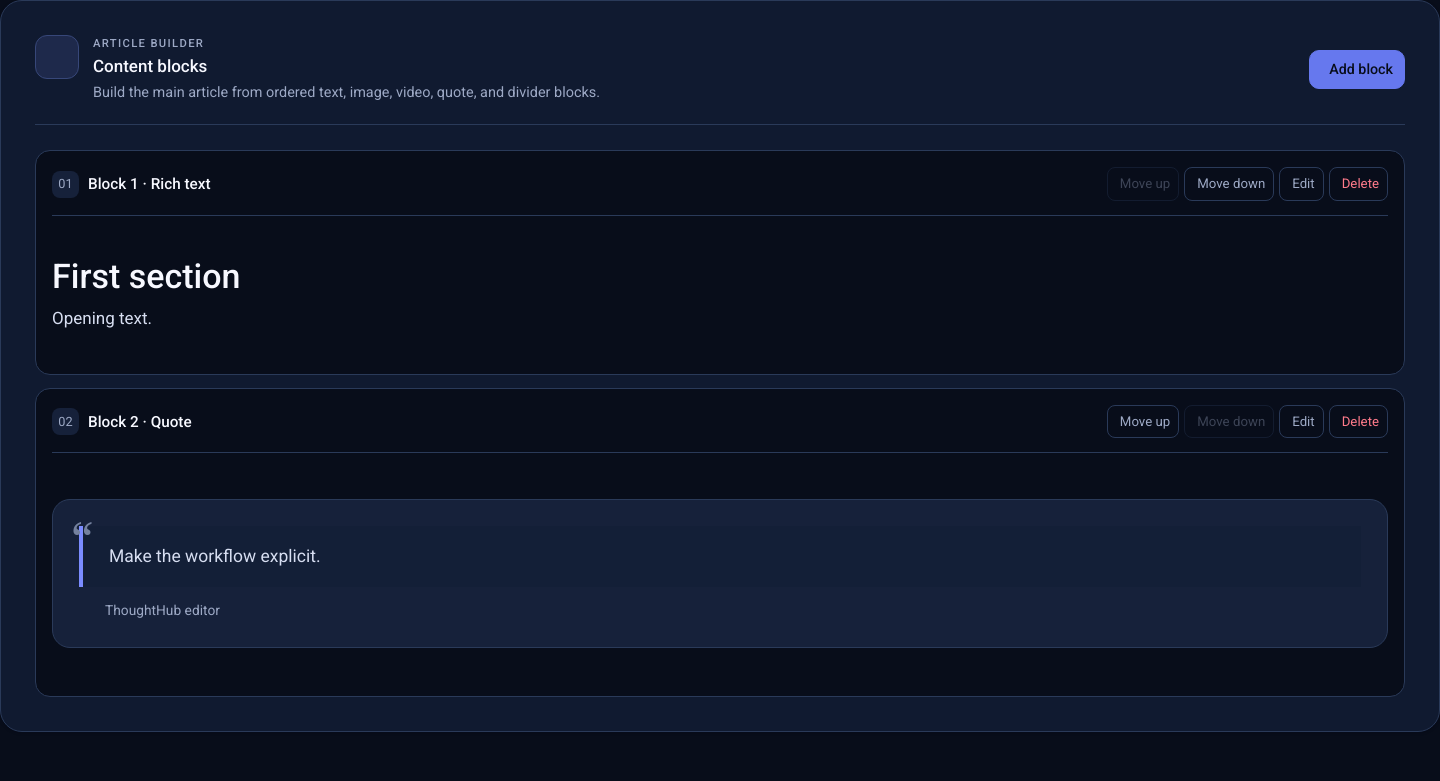
Test: PostBlocksEditor › edits an existing quote block
expect the text "Make the workflow explicit." is shown: met, box [109, 546, 320, 566]
Click the button with aria-label "Edit block 2" at (1301, 422), box [1279, 405, 1324, 438]
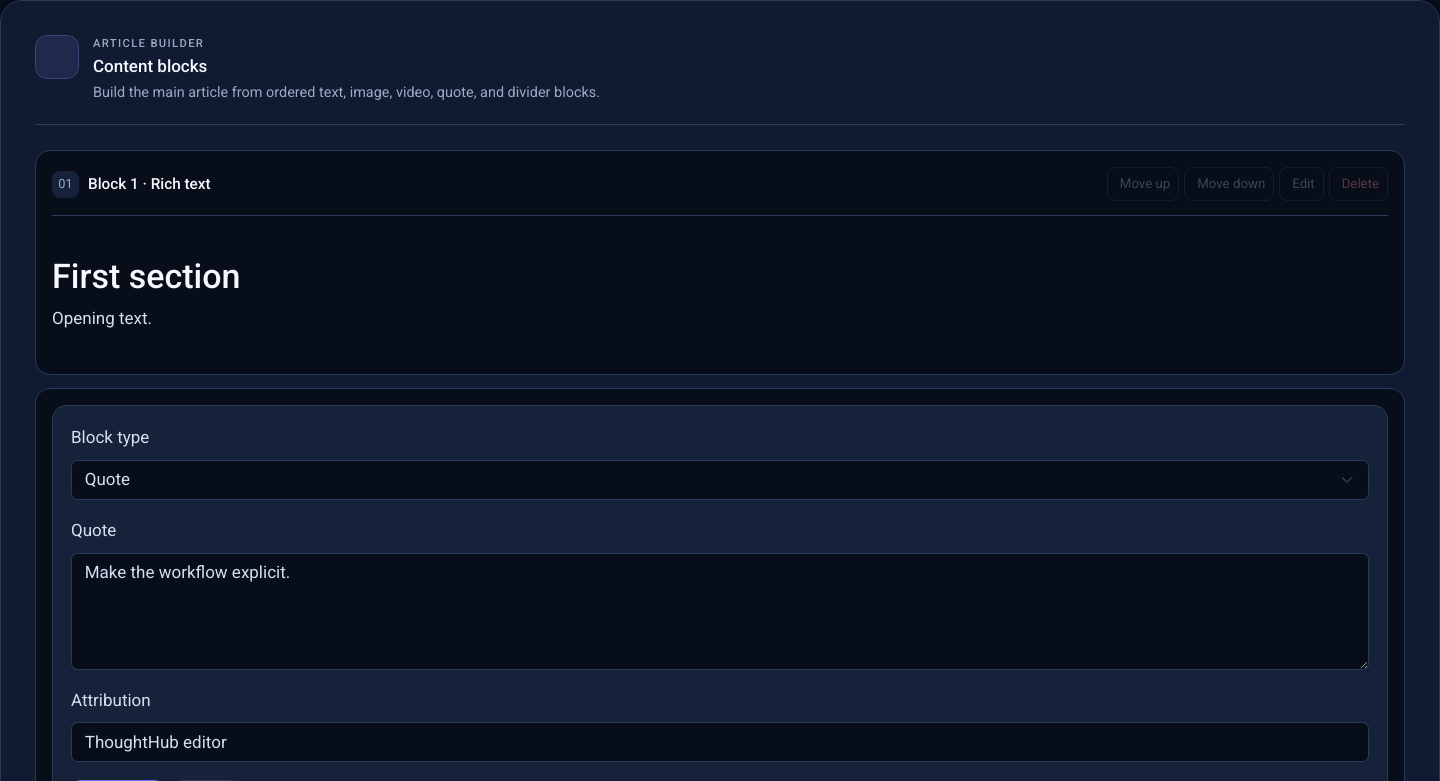
Replace the text in the text box labelled "Quote" with "Make each state explicit." at (720, 611), box [71, 553, 1369, 670]
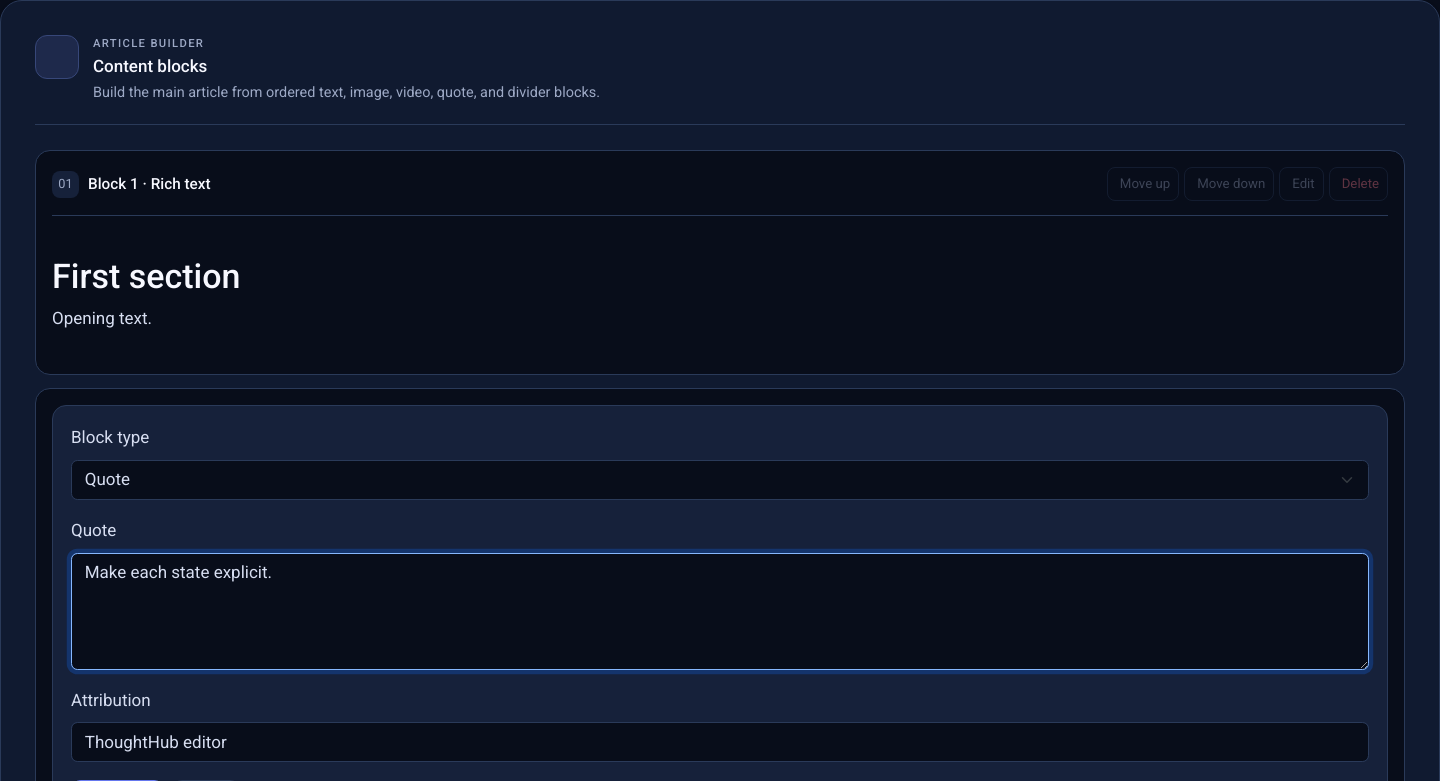
Replace the text in the field labelled "Attribution" with "Editorial team" at (720, 742), box [71, 722, 1369, 762]
(page scrolled)
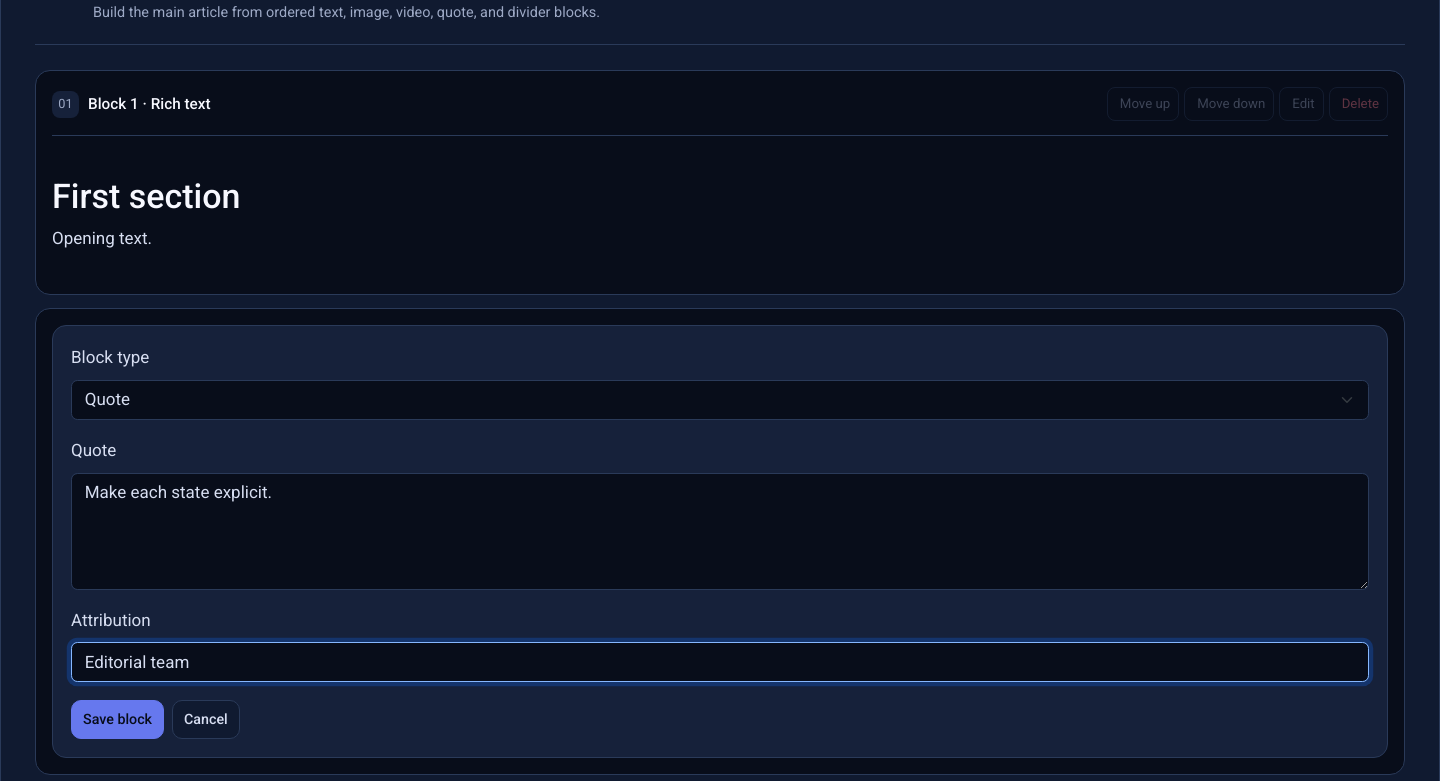
Click the button "Save block" at (118, 720), box [71, 700, 164, 739]
(page scrolled)
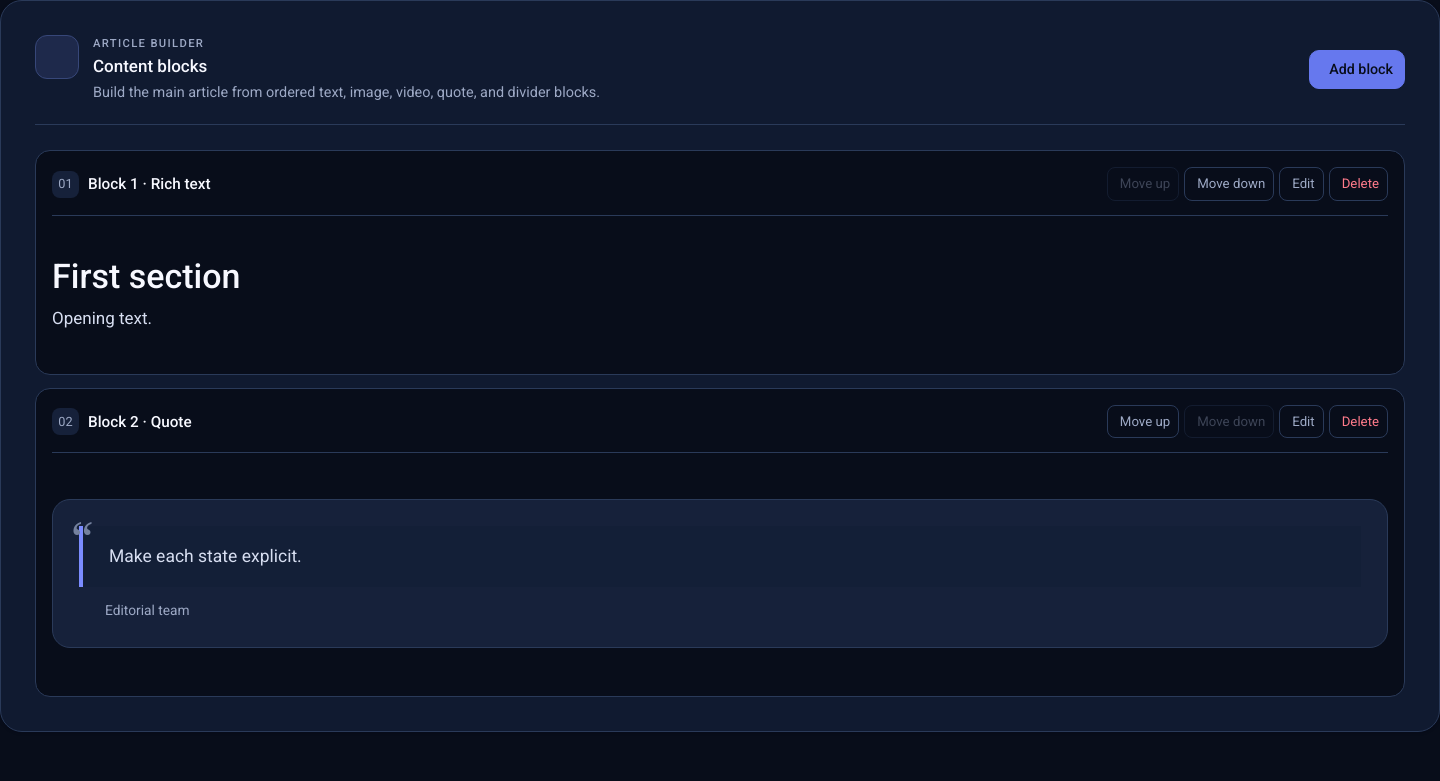
expect the text "Make each state explicit." is shown: met, box [109, 546, 302, 566]
